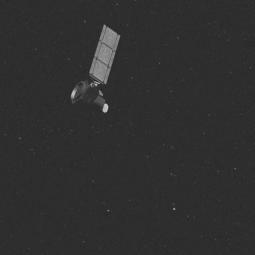earth_observation_sat_1: (64, 23, 122, 119)
